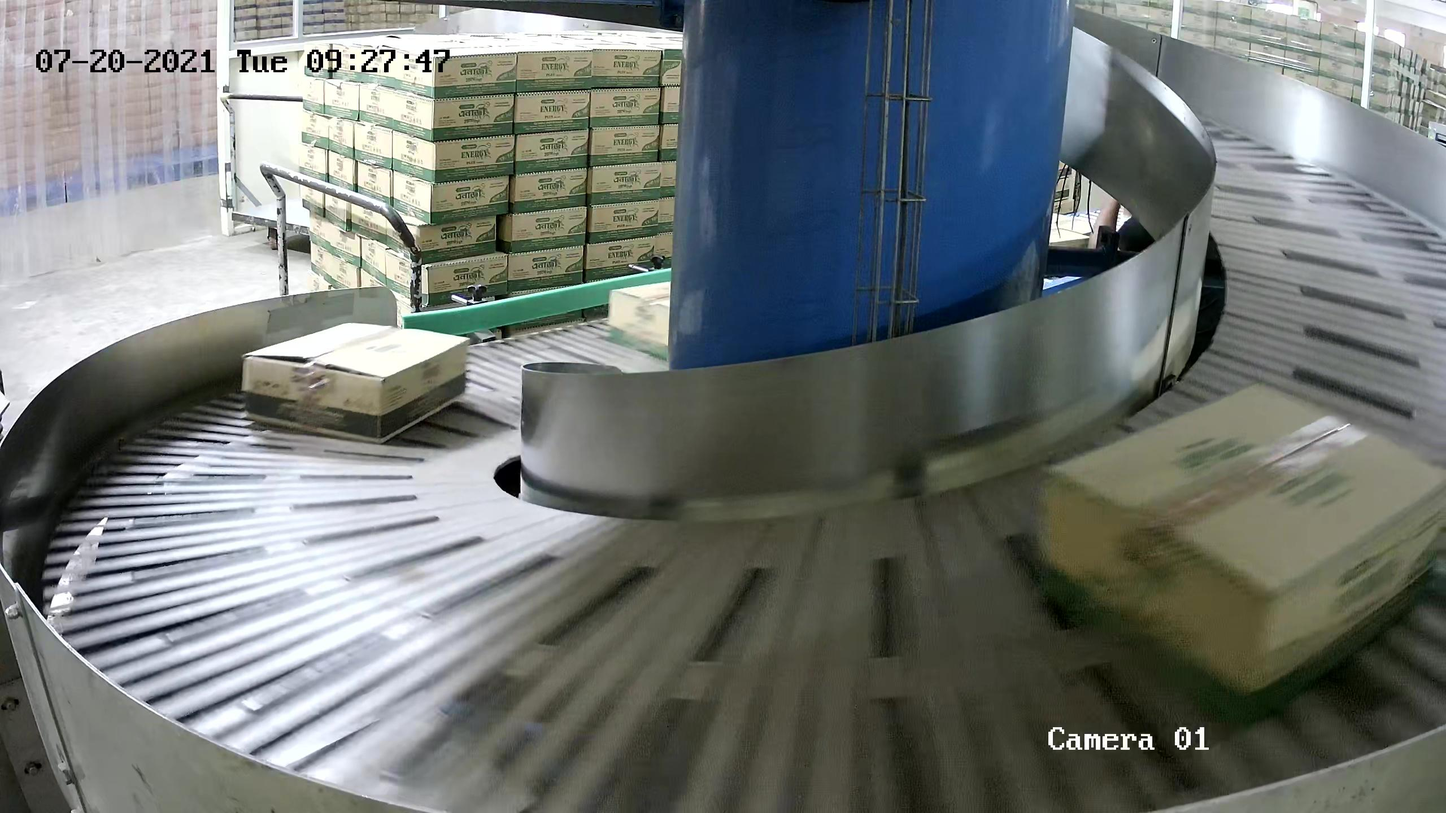Box: (1029, 380, 1446, 727), (240, 321, 471, 446), (606, 280, 670, 358)
